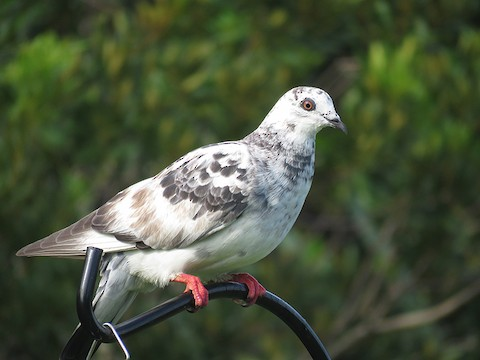pigeon: (13, 81, 350, 351)
